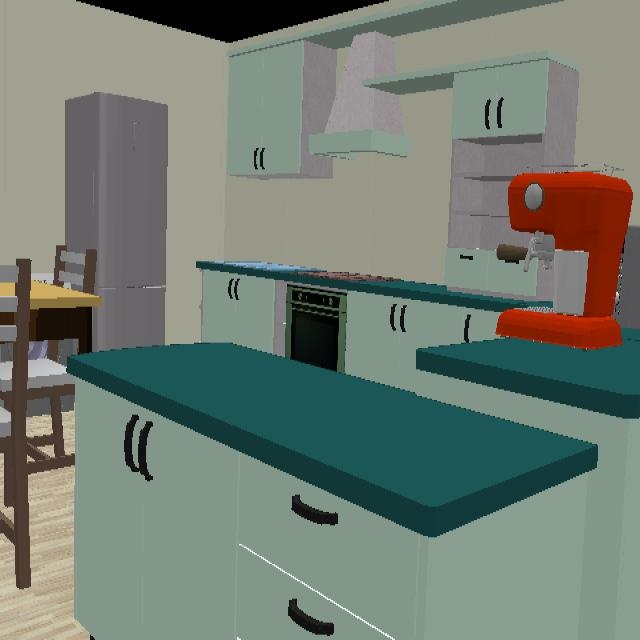cabinet: (73, 381, 588, 640), (416, 372, 640, 640), (444, 60, 579, 300), (226, 0, 565, 59), (346, 292, 501, 403), (345, 291, 501, 401), (228, 40, 337, 179), (362, 51, 580, 96), (201, 271, 285, 357)
chair: (0, 259, 32, 591), (26, 359, 75, 473), (55, 245, 97, 295), (0, 361, 13, 413)
countertop: (65, 343, 599, 539), (416, 328, 640, 420), (196, 261, 553, 312)
fridge: (65, 92, 168, 351)
microwave: (612, 225, 640, 329)
oven: (285, 283, 348, 373)
stove: (297, 269, 366, 281)
table: (29, 280, 102, 341), (0, 283, 15, 297)
